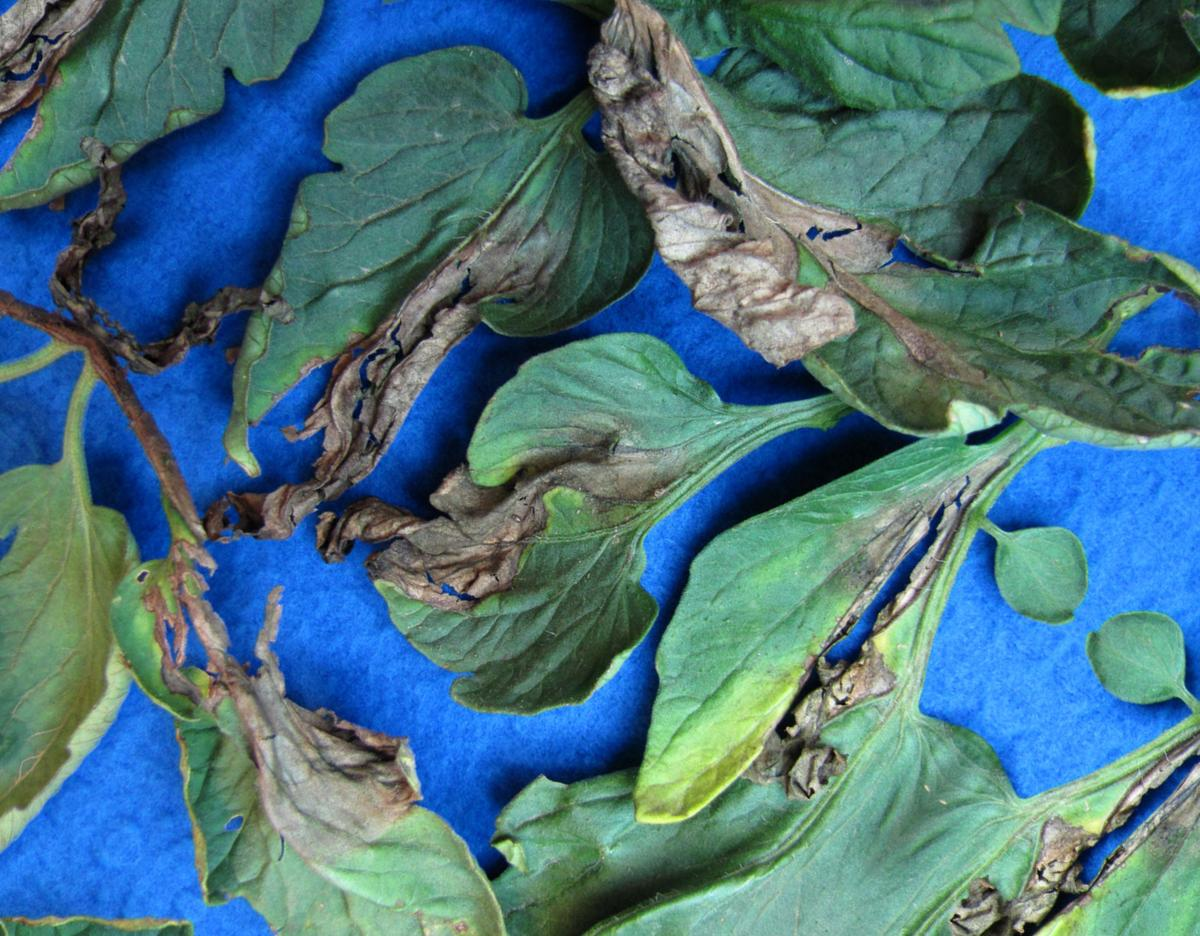Tomato leaf late blight: (547, 0, 1200, 630), (93, 0, 744, 624), (562, 313, 1148, 922), (317, 243, 837, 782), (23, 536, 697, 936)
